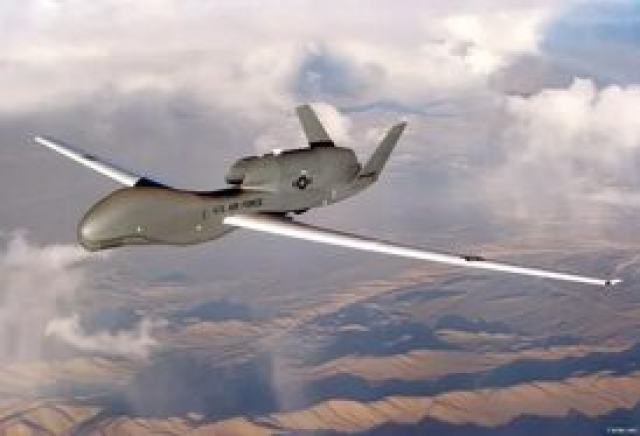military drone: (34, 104, 623, 288)
